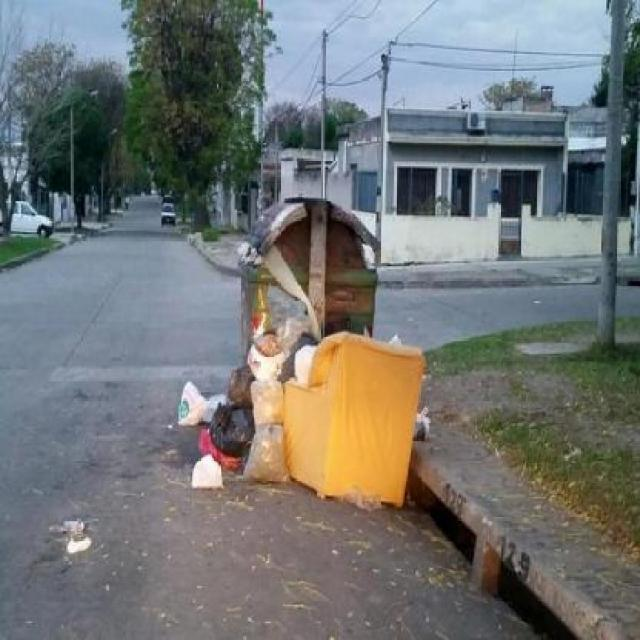garbage: (203, 312, 414, 518)
